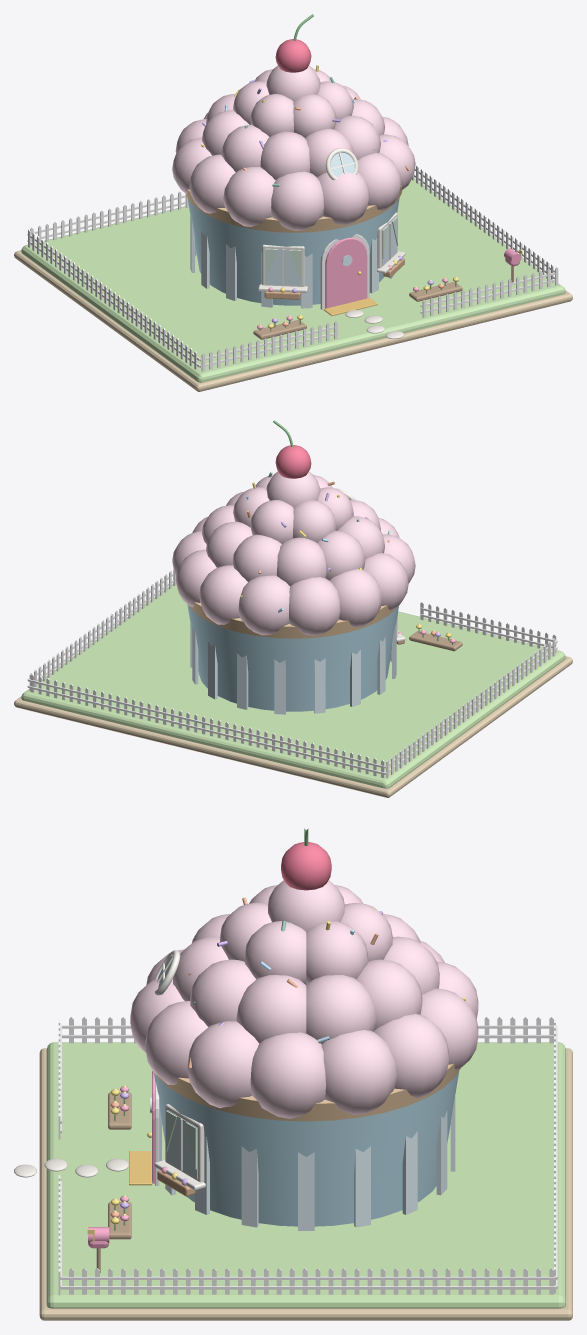
The model's file is building_sweets_L07.glb.
The picture shows the model from 3 angles, top to bottom: view 1: azimuth 30°, elevation 25°; view 2: azimuth 150°, elevation 25°; view 3: azimuth 270°, elevation 25°; orthographic projection. The views are drawn at different scales.
Visible parts, largest first — view 1: sweets_L7; view 2: sweets_L7; view 3: sweets_L7.
Part boxes in pixels (left/top/right/bottom): sweets_L7: left=14, top=14, right=572, bottom=391; sweets_L7: left=14, top=420, right=572, bottom=797; sweets_L7: left=14, top=828, right=572, bottom=1320.
Bounding box in the file's own units: 26.61 × 17.64 × 23.69.
